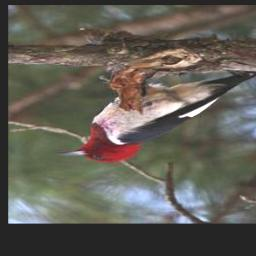Woodpecker: (51, 71, 256, 165)
